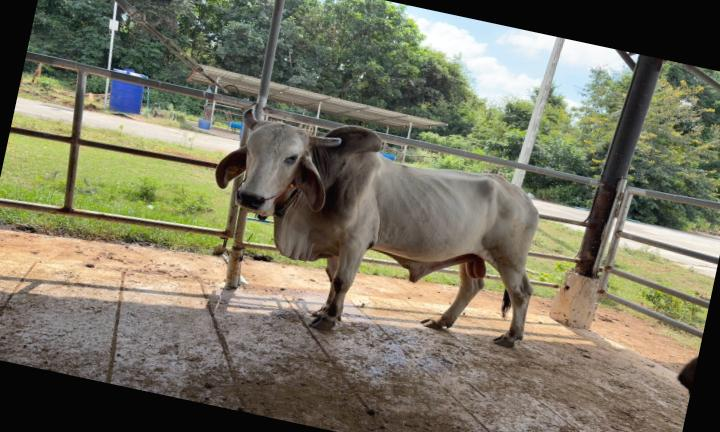Brahman: (216, 110, 538, 347)
